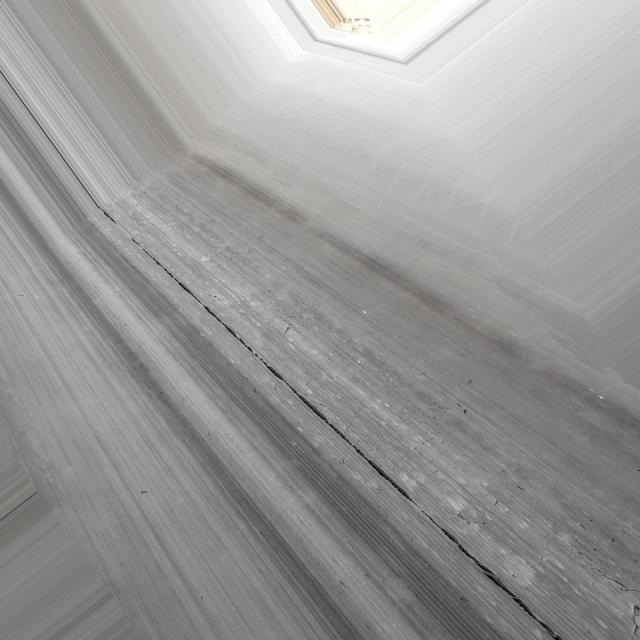Tear: (0, 85, 281, 371), (281, 371, 571, 640)
